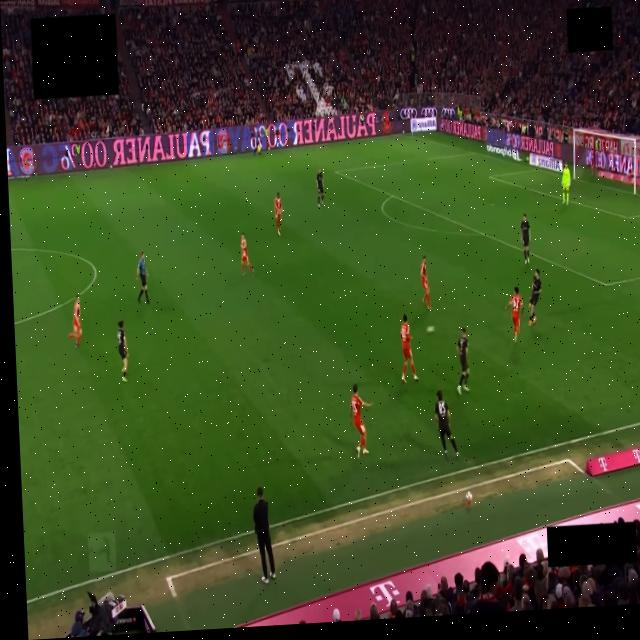ball: (427, 326, 434, 334)
player: (434, 391, 458, 458), (350, 384, 371, 457), (400, 315, 418, 383), (505, 287, 522, 342), (456, 328, 469, 395), (528, 269, 540, 326), (68, 295, 81, 347), (117, 322, 127, 382), (240, 233, 254, 275), (420, 256, 430, 310), (520, 215, 529, 265), (561, 163, 570, 205), (274, 192, 281, 236), (316, 170, 323, 207)
referee: (136, 252, 149, 303)
